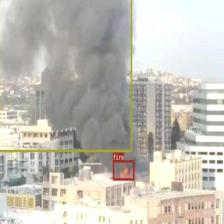fire: (112, 160, 134, 180)
smoke: (0, 0, 132, 152)
